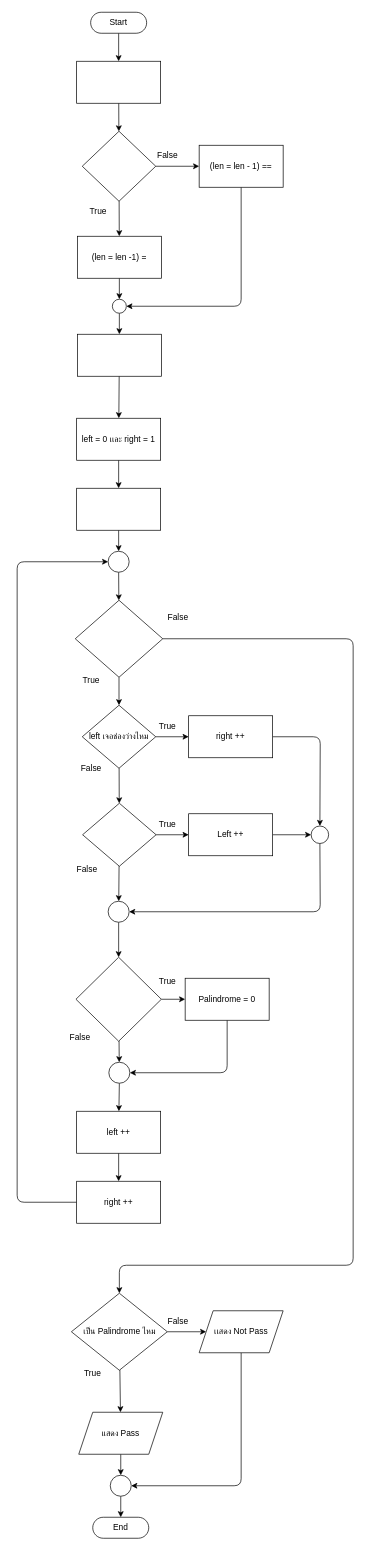
This 371x1551 diagram has some shape labels left out. Here are the shapes that lost their labels. From the top down, the box of each, then its label:
(76, 61, 161, 103): แสดง Enter a word or phrase
(82, 131, 156, 201): len = strlen
(77, 334, 161, 376): len = len - 1
(76, 488, 161, 530): Palidrome = 1
(75, 600, 163, 677): left < right
(82, 803, 156, 866): right เจอช่องว่างไหม
(75, 957, 161, 1041): เช็ค left เเละ right ว่ายังขยับต่อไปได้ไหม
